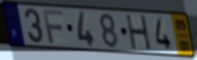3: (24, 7, 45, 45)
4: (77, 11, 97, 49), (155, 17, 173, 52)
8: (98, 12, 121, 50)
F: (42, 9, 65, 46)
H: (124, 14, 153, 51)
